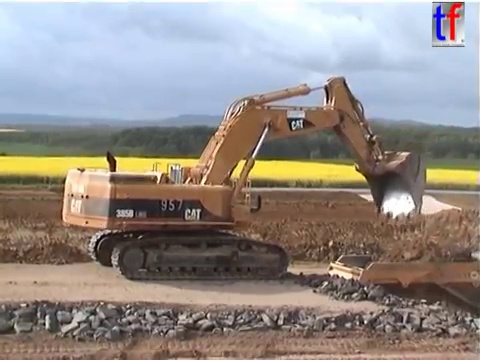excavator: (58, 73, 430, 284)
truck: (325, 250, 480, 340)
